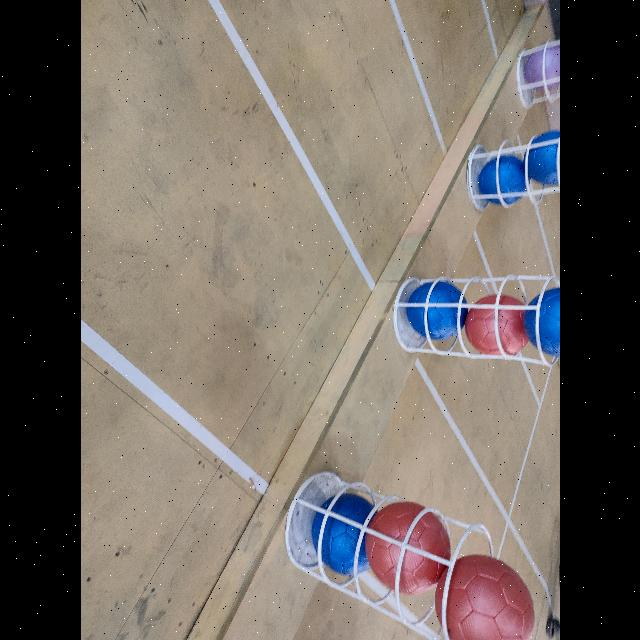B: (313, 494, 369, 574), (408, 280, 466, 342), (524, 286, 560, 356), (478, 156, 528, 204), (524, 130, 560, 186)
R: (436, 554, 536, 640), (366, 502, 454, 594), (466, 294, 528, 358)
